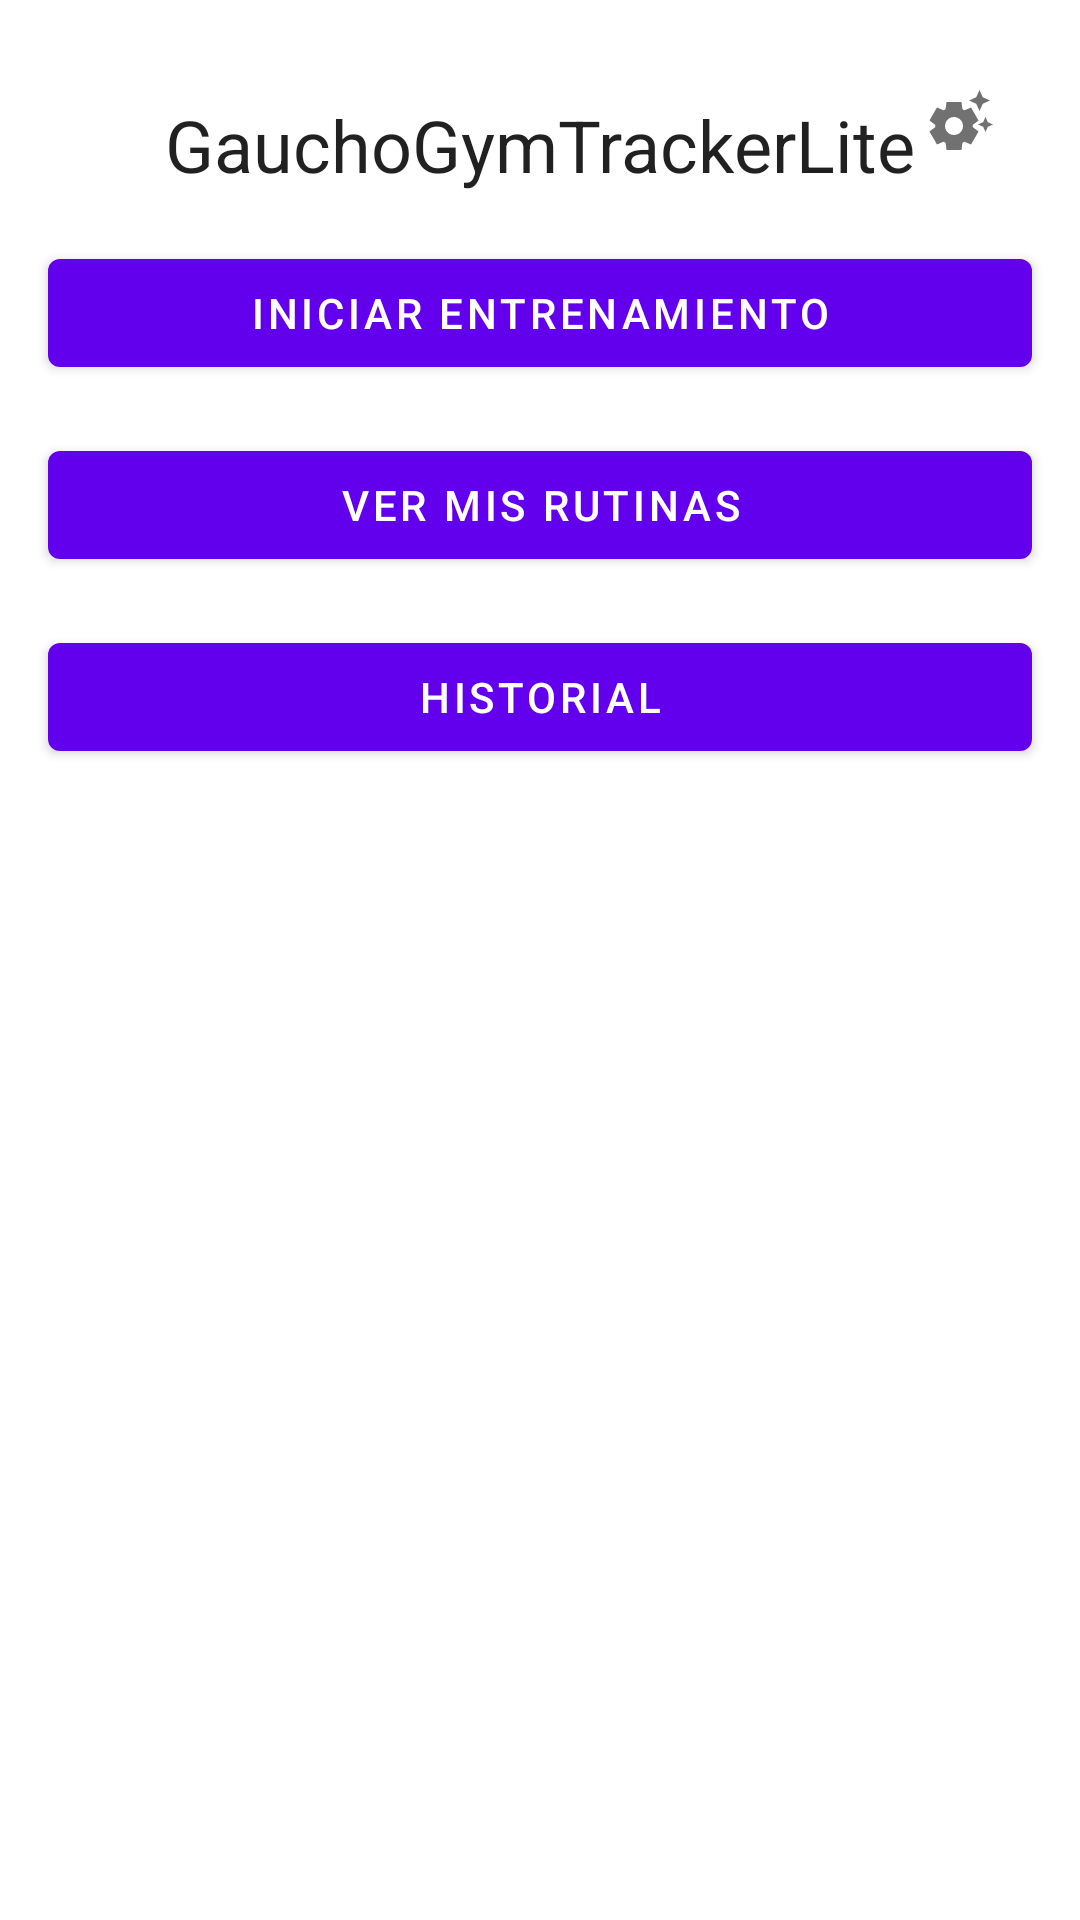

Icons on this 1080×1920 Android screen, each with its box as region(x1, y1, x2, y2):
Ajustes: region(929, 90, 993, 150)
